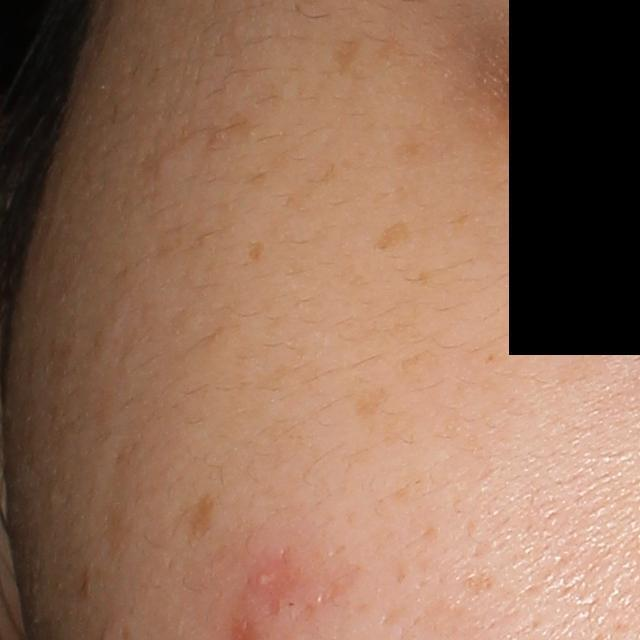melasma: (283, 158, 343, 210), (370, 217, 421, 254), (329, 35, 363, 78), (243, 237, 266, 268)
pustule: (254, 566, 283, 591)
